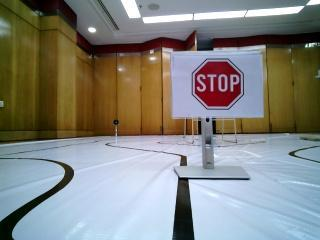stop: (178, 52, 261, 113)
